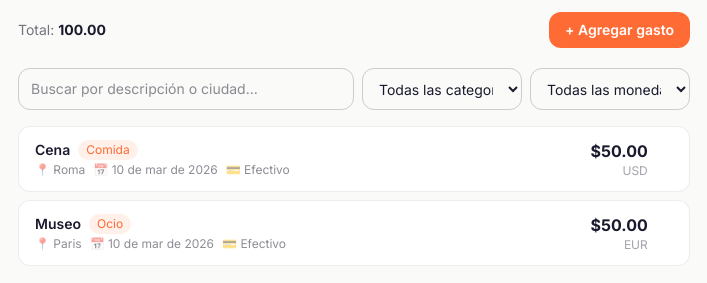
Test: search and filters › filters by description or city, case-insensitively
Check: the text "Cena" is shown, box [35,140,70,160]
Type "ROMA" into the field with placeholder "Buscar por descripción o ciudad..." at x=186, y=89, box [18,68,354,110]
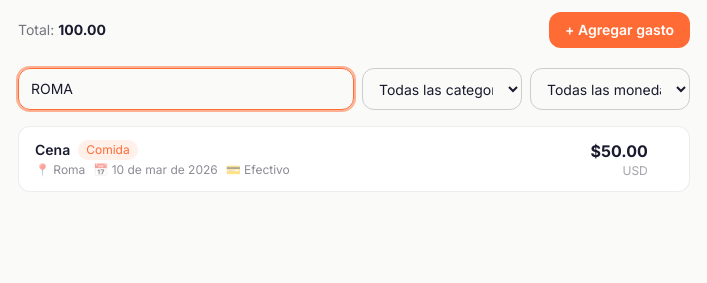
Check: the text "Cena" is shown, box [35,140,70,160]
Check: the text "Museo" is gone
